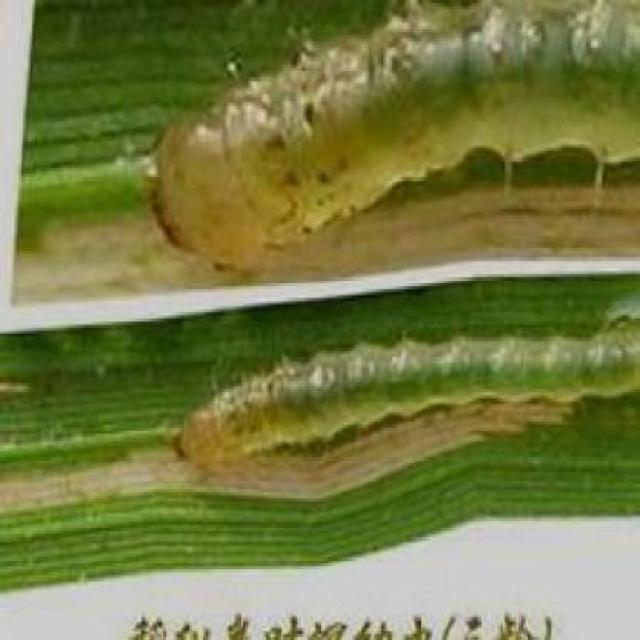leaf-folder: (146, 0, 640, 254), (175, 301, 640, 488)
